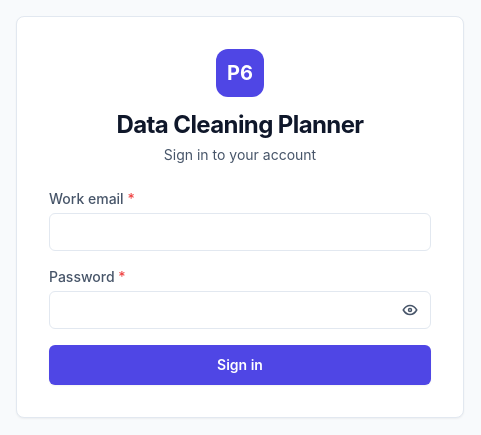
it: LoginPage sign-in › toggles the password field type
Click the button named "Show password" at point(416, 310), box [401, 291, 431, 329]
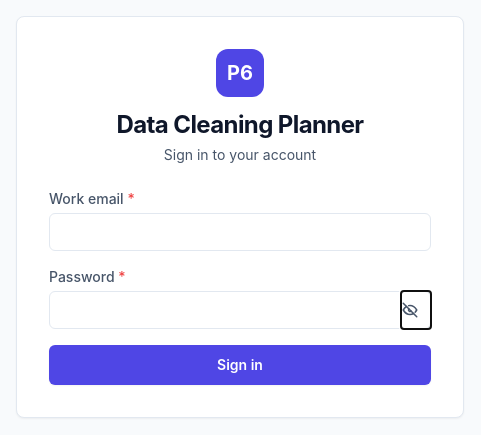
Expected: the button named "Hide password" is shown, [401, 291, 431, 329]
